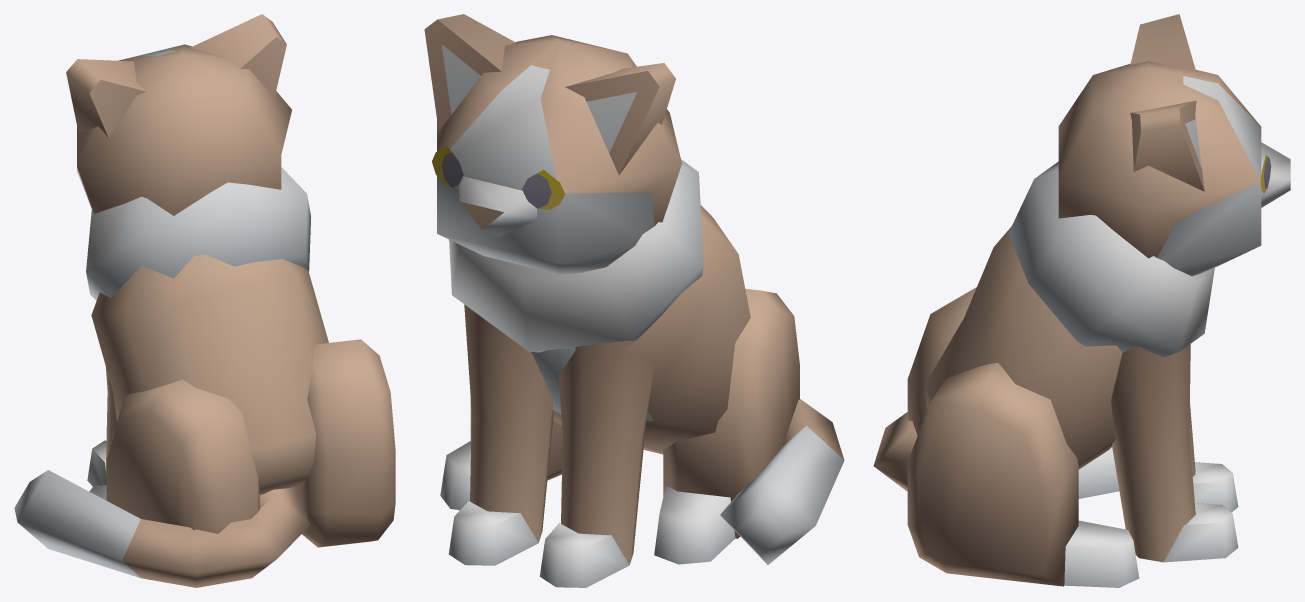
Rendered from cat-sitting.glb.
3 renders of one model, left to right at view 1: azimuth 30°, elevation 25°; view 2: azimuth 150°, elevation 25°; view 3: azimuth 270°, elevation 25°, orthographic. The views are drawn at different scales.
Parts seen in each view (by area): view 1: cat-sitting; view 2: cat-sitting; view 3: cat-sitting.
Boxes of the visible parts, x1,y1,x2,y2 form: cat-sitting: (14, 14, 395, 587); cat-sitting: (424, 14, 844, 587); cat-sitting: (873, 14, 1290, 587).
Bounding box in the file's own units: 0.2862 × 0.3753 × 0.3043.
